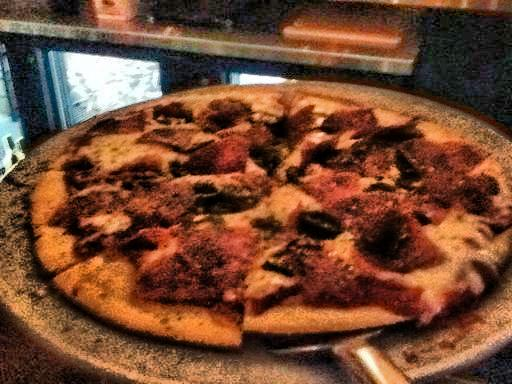pizza: (27, 78, 512, 354)
